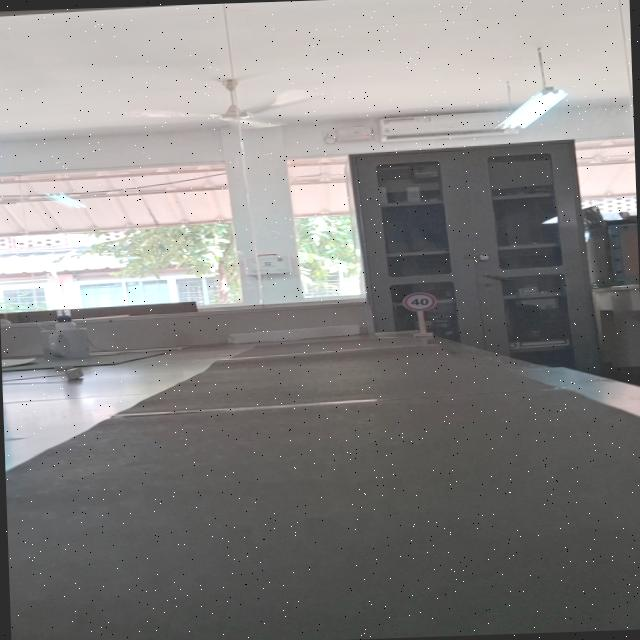Speed40: (400, 290, 438, 313)
